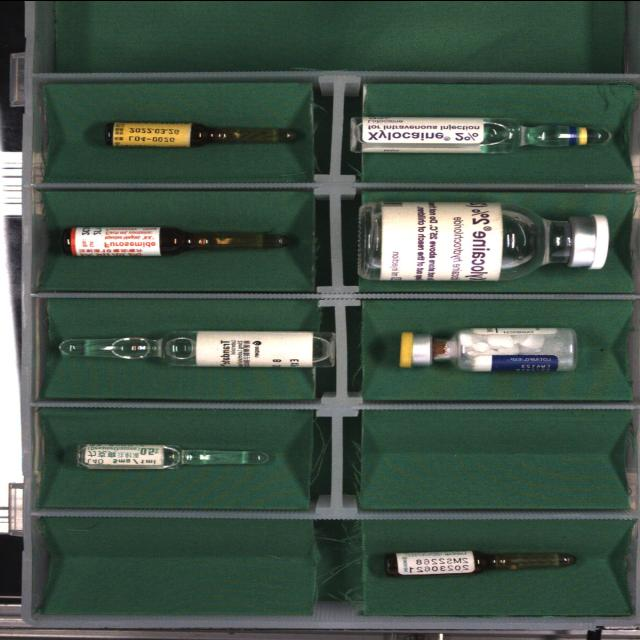Vials: (359, 201, 609, 280), (399, 327, 577, 371)
